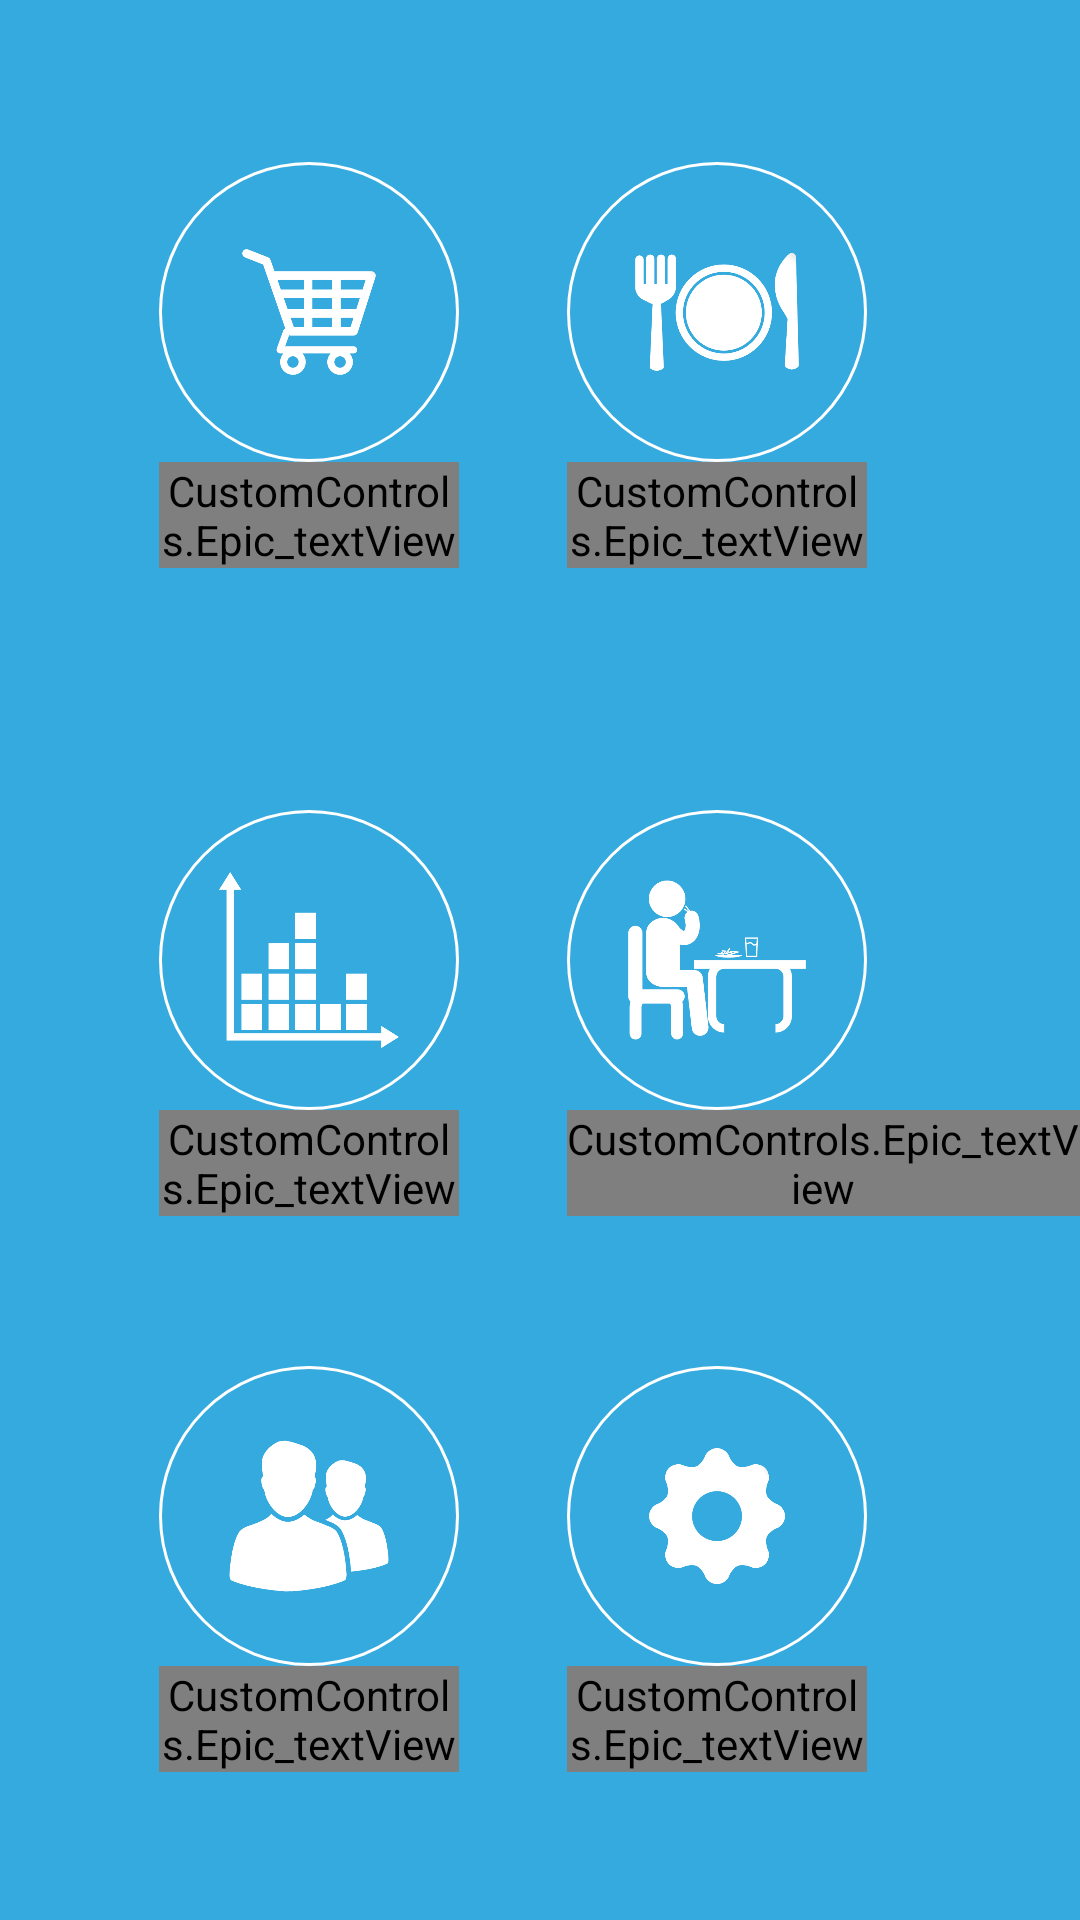

Icon click points for this 1080px x 1920px phone screenshot, format (x,y):
cart: (309,312)
chart: (309,960)
man eat: (717,960)
plate: (717,312)
setting: (717,1516)
user: (309,1516)
